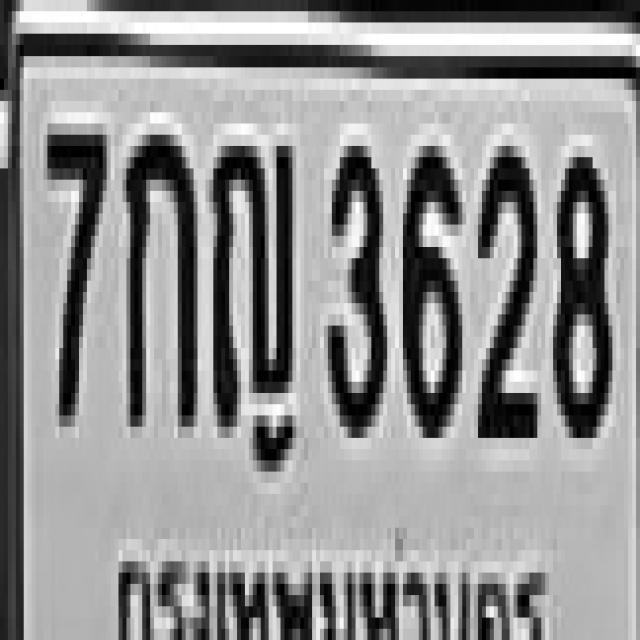10GorGai: (122, 124, 194, 416)
2: (474, 134, 533, 426)
22YorYing: (210, 124, 292, 426)
3: (324, 134, 383, 426)
6: (399, 134, 458, 426)
7: (43, 124, 103, 416)
8: (549, 146, 609, 427)
